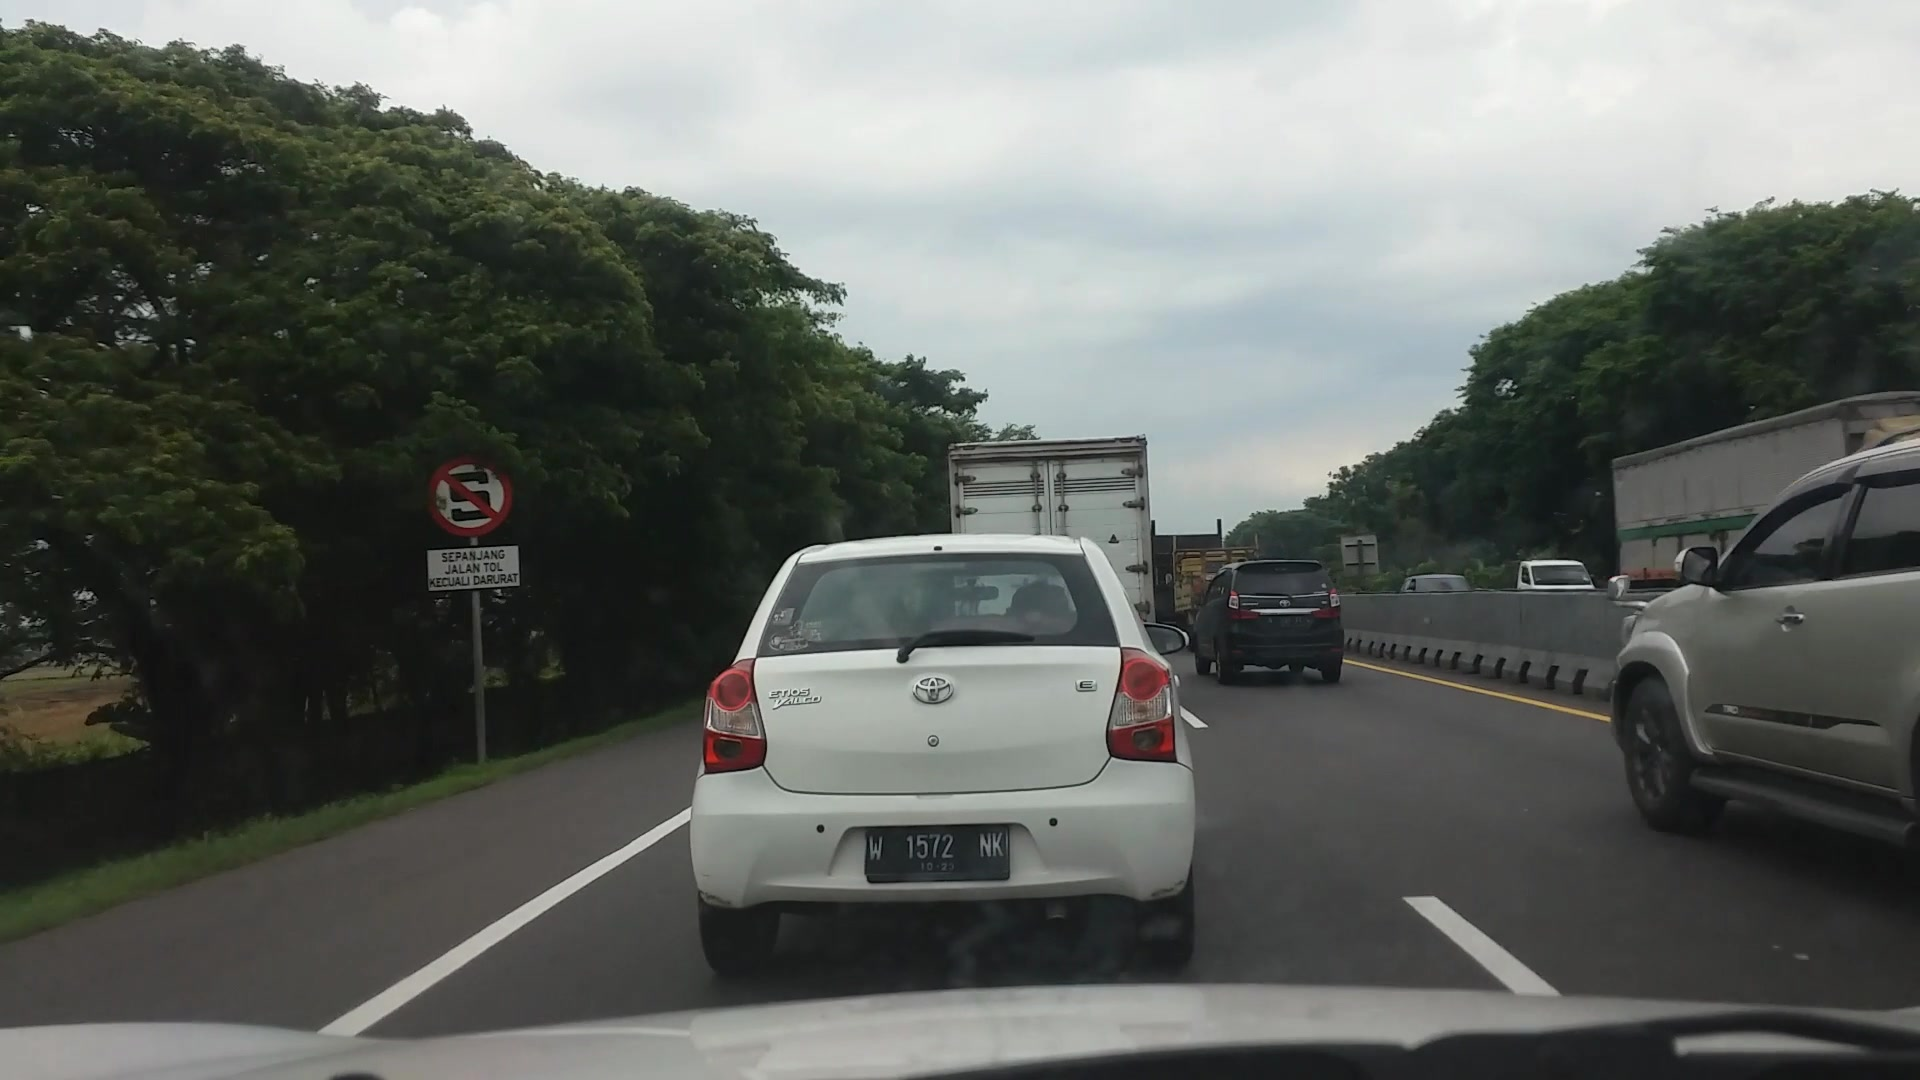plate_positive: (862, 824, 1010, 884)
